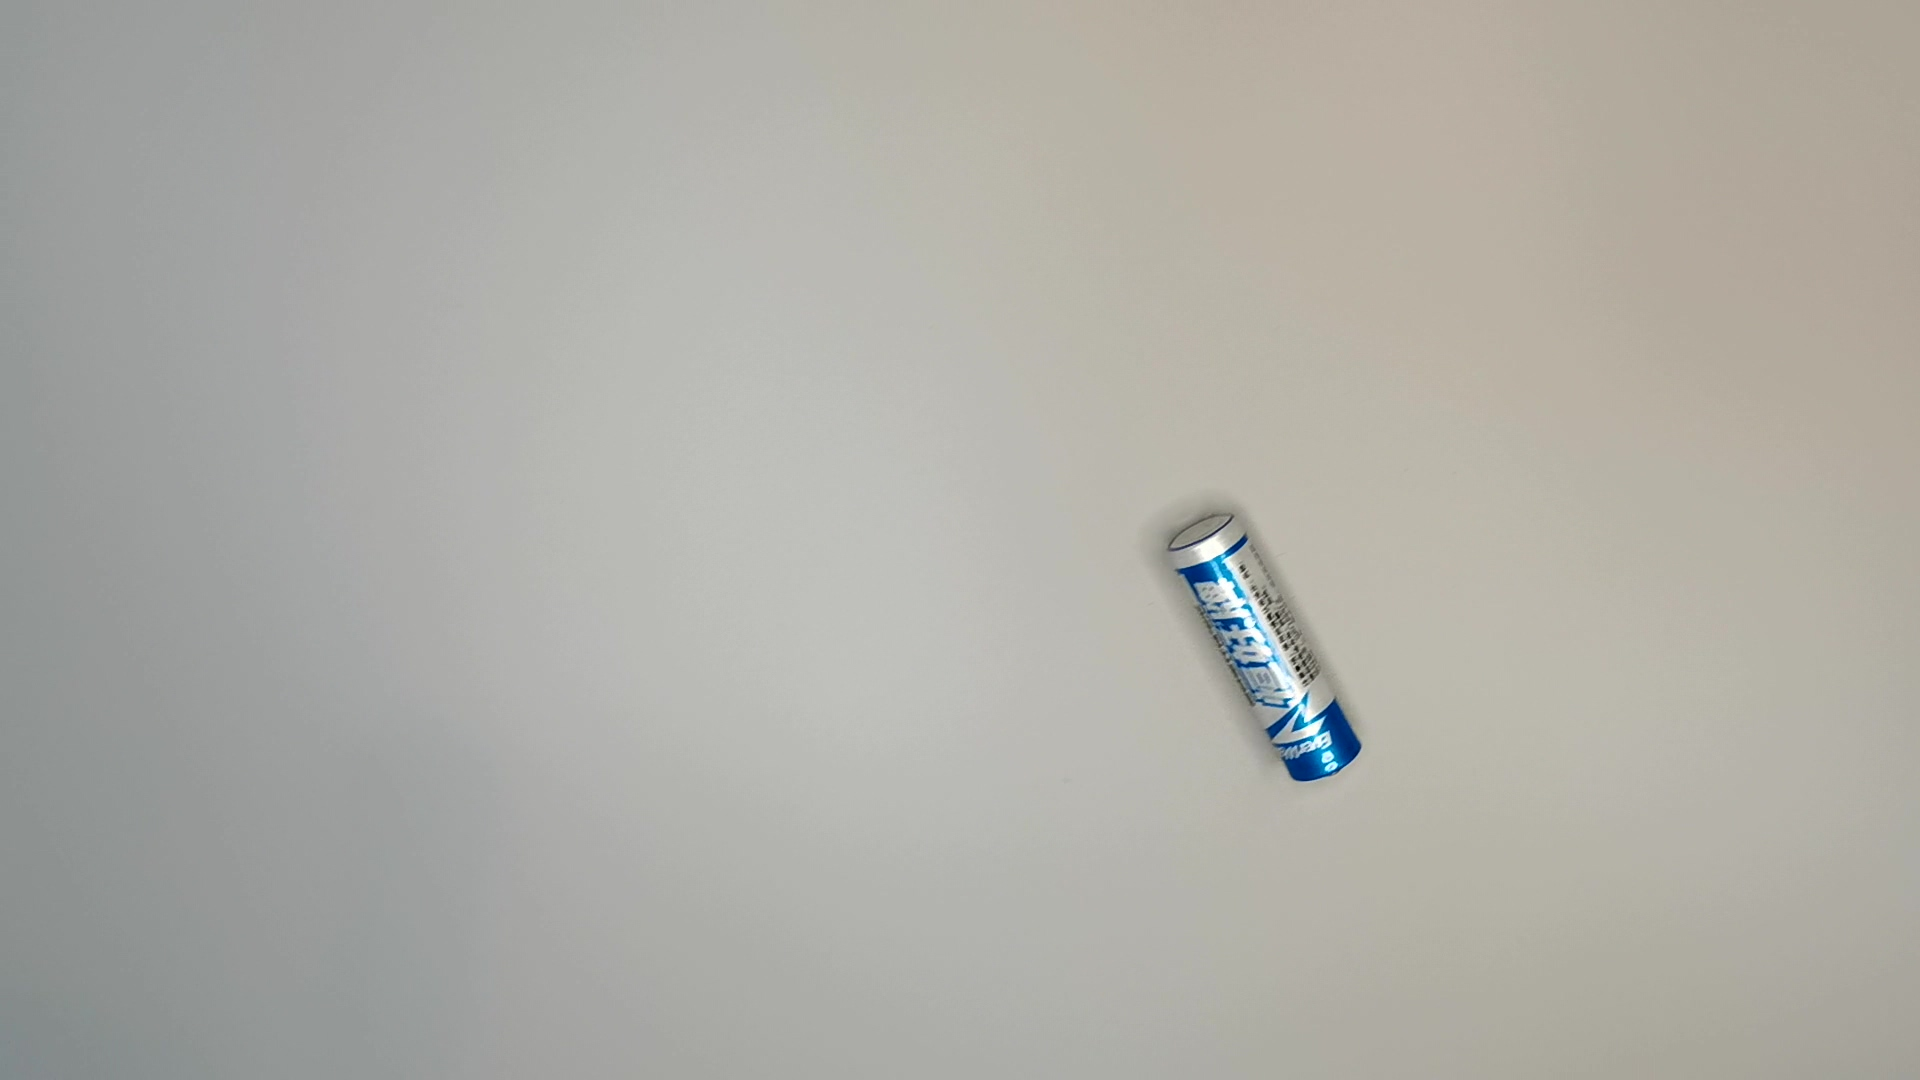battery: (1163, 508, 1367, 786)
